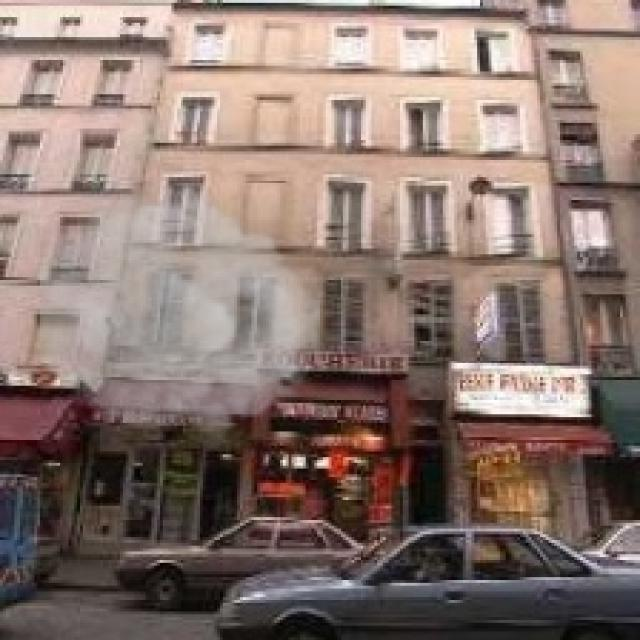Smoke: (40, 177, 320, 449)
